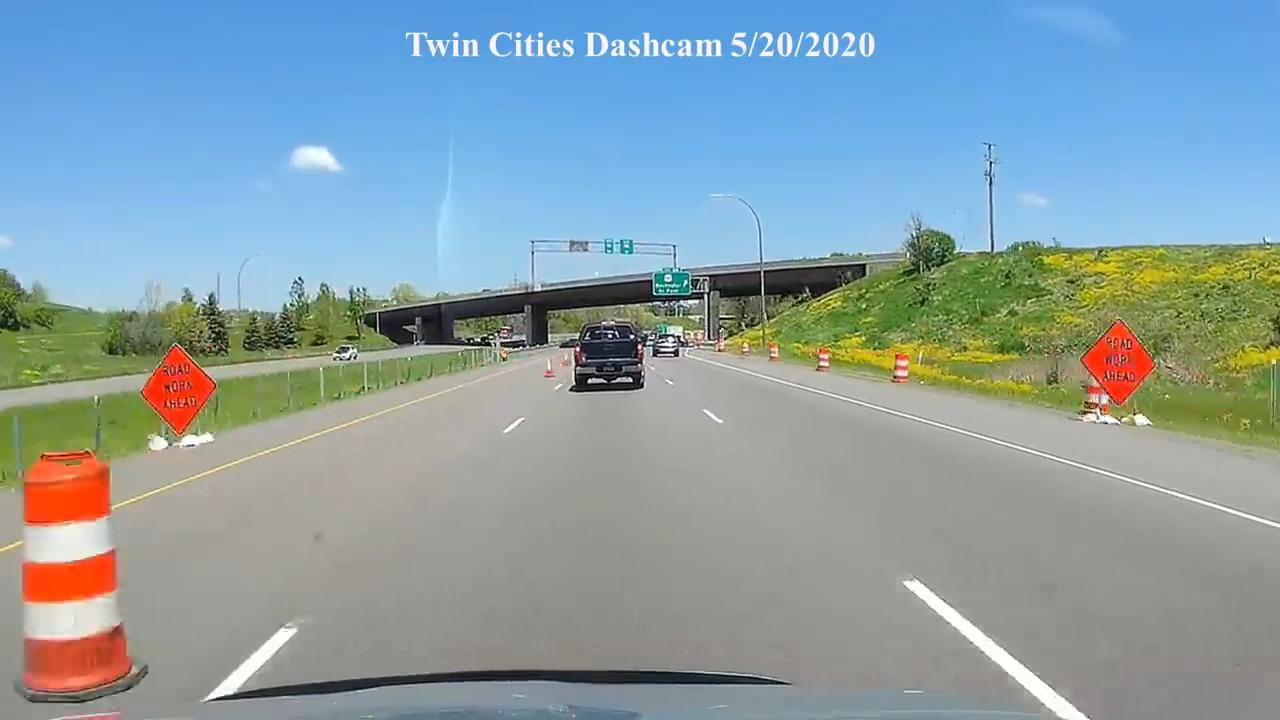car: (571, 320, 646, 392), (651, 332, 682, 358), (332, 344, 359, 362)
traffic cone: (13, 449, 150, 704), (891, 352, 910, 382), (814, 347, 831, 373), (768, 341, 781, 362), (545, 356, 554, 378), (716, 335, 726, 354)
